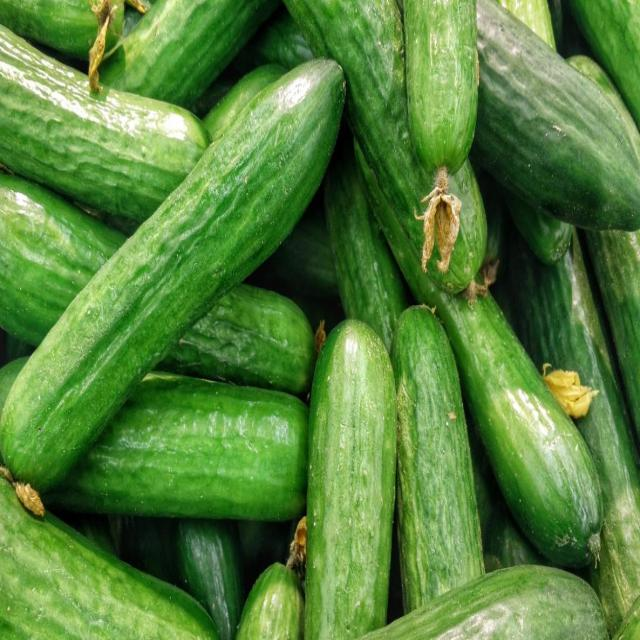Pickle: (0, 60, 345, 489), (356, 144, 602, 568), (510, 231, 640, 633), (0, 26, 210, 221), (474, 0, 640, 230), (287, 0, 434, 258), (49, 376, 309, 519), (0, 478, 218, 639), (305, 320, 396, 640), (391, 307, 484, 613), (0, 176, 125, 346), (404, 0, 479, 273), (100, 0, 278, 107), (364, 565, 606, 640), (159, 284, 316, 393), (428, 162, 486, 292)
